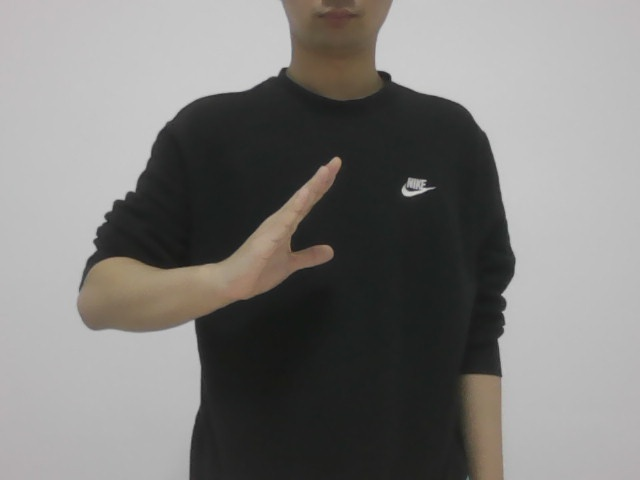morning: (219, 160, 365, 311)
